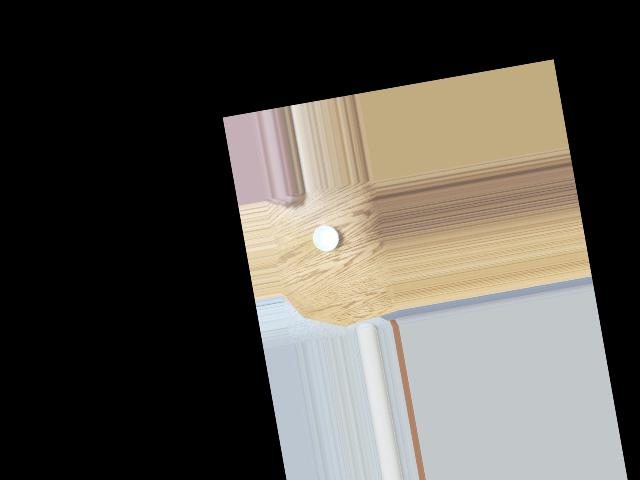cotage: (305, 218, 340, 256)
